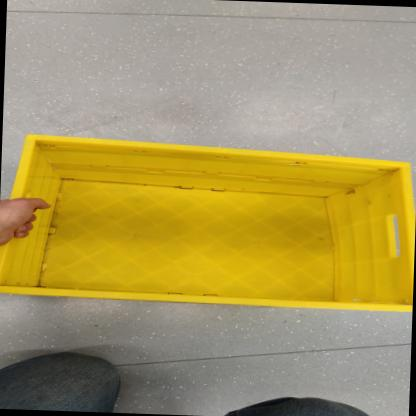box: (0, 134, 416, 320)
